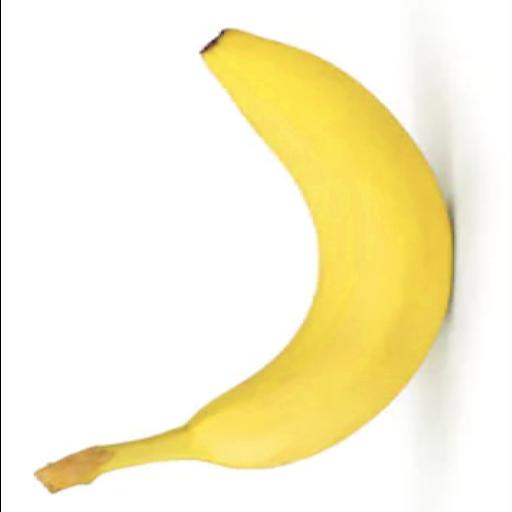banana: (37, 29, 452, 490)
